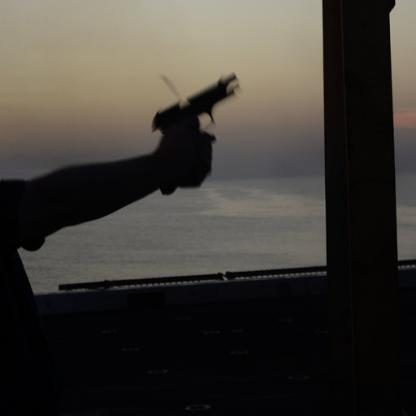gun: (151, 71, 241, 195)
